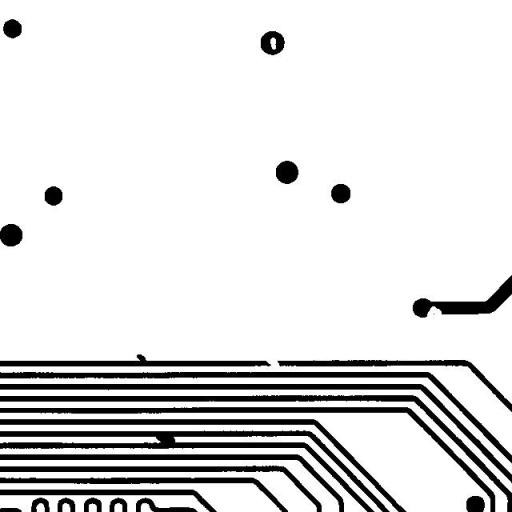mousebite: (419, 298, 449, 325)
open: (257, 348, 286, 374)
pin-hole: (262, 30, 284, 56)
short: (148, 425, 182, 452)
spur: (128, 346, 154, 370)
